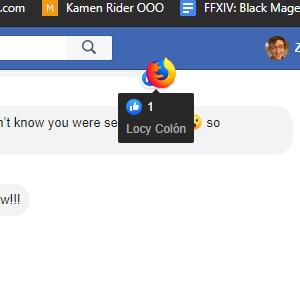firefox: (146, 56, 176, 88)
